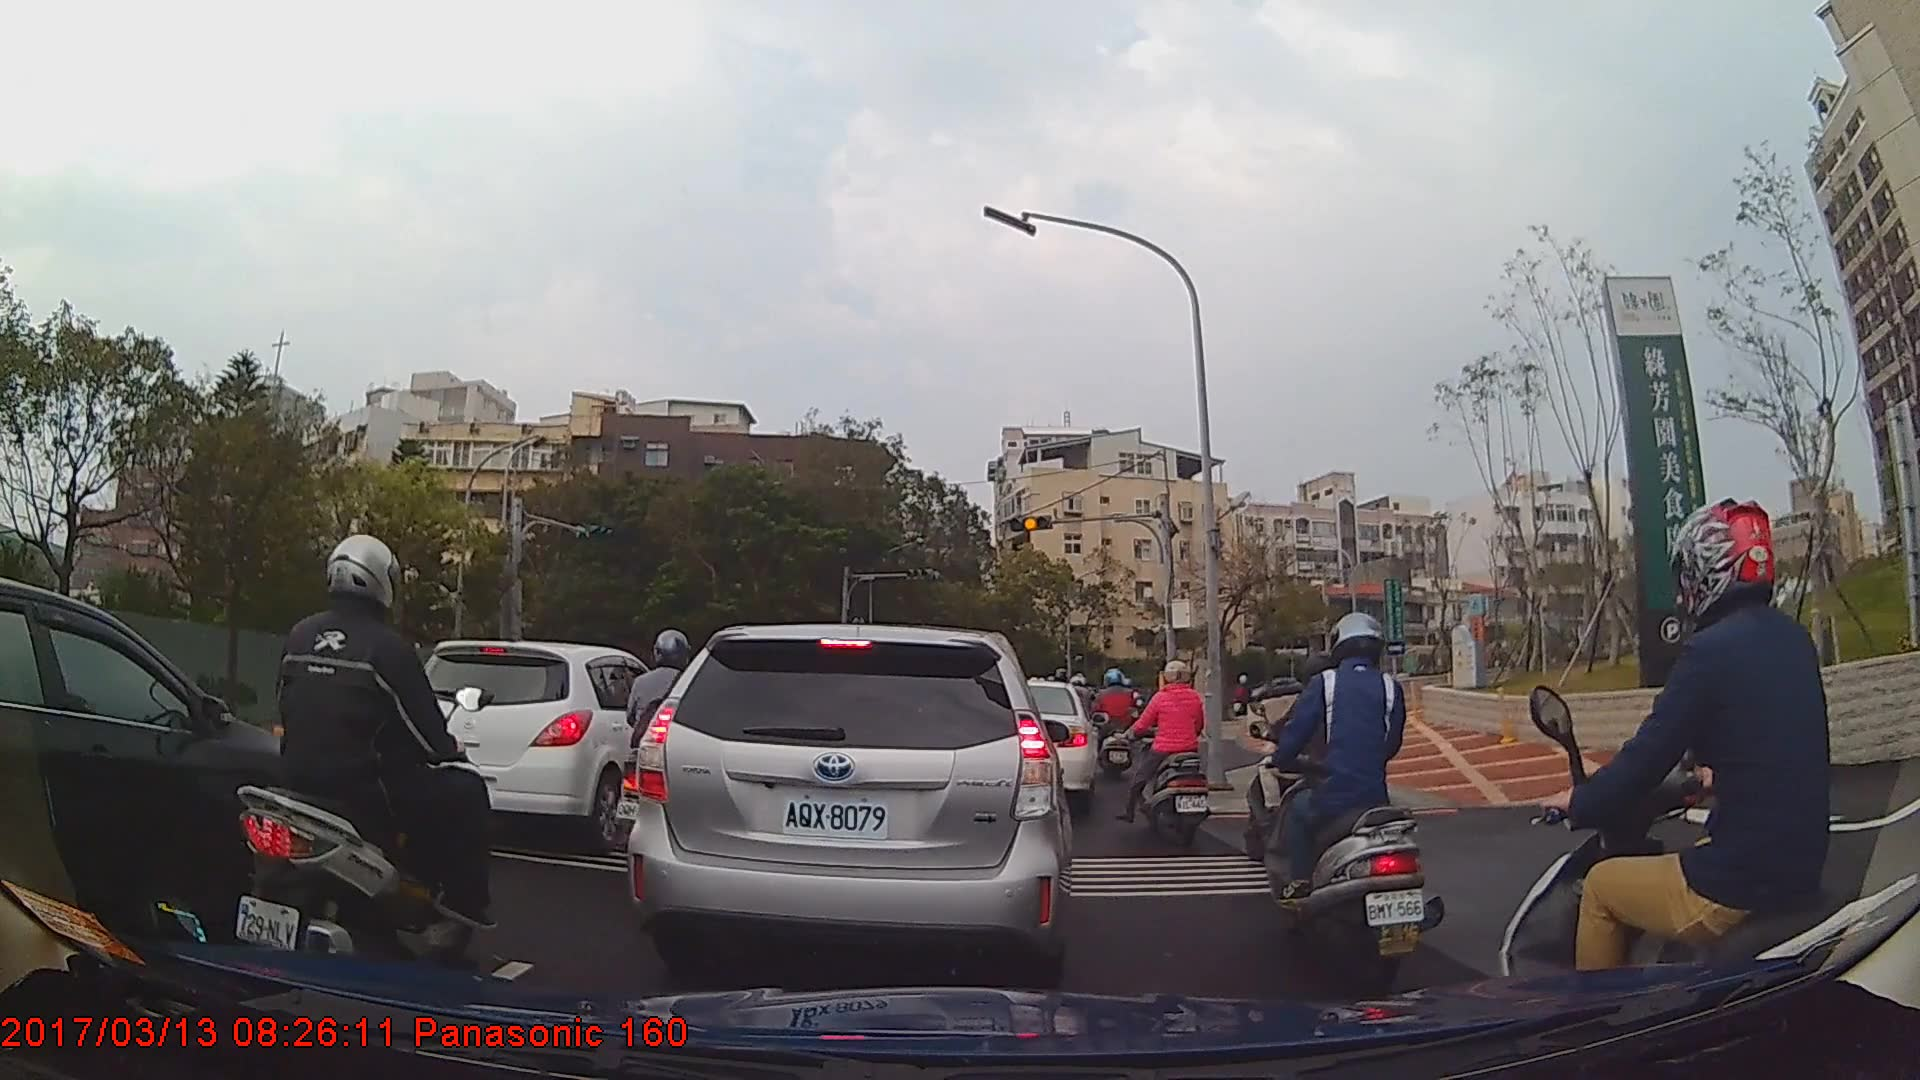rider: (1495, 498, 1919, 1080), (234, 532, 497, 1005), (1251, 611, 1437, 1002), (614, 627, 712, 878), (1135, 663, 1212, 854), (1091, 667, 1141, 777)
vehicle: (625, 623, 1071, 985), (0, 571, 346, 941), (391, 638, 670, 856), (992, 679, 1098, 808)
